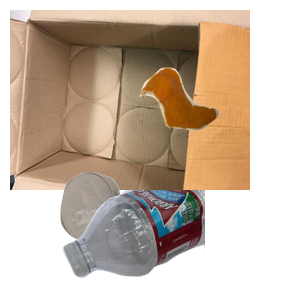cardboard: (10, 10, 250, 190)
glass: (58, 170, 202, 300)
plastic: (60, 190, 300, 280)
trash: (137, 65, 300, 188)
